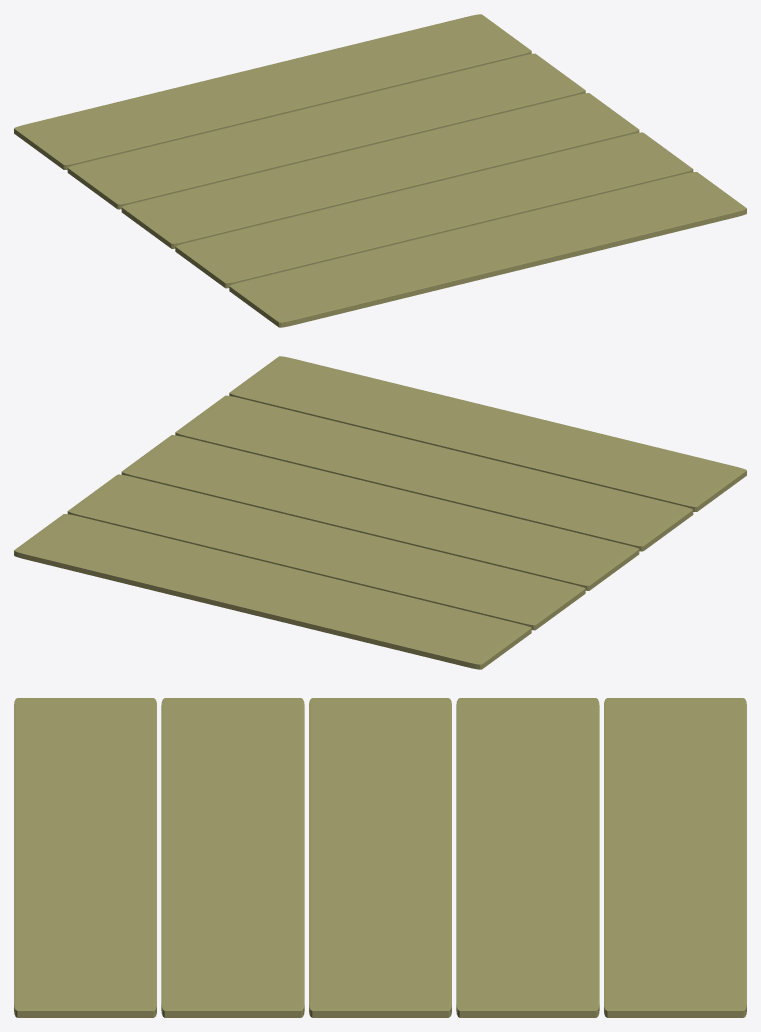
File: parke_1x1.fbx
3 renders of one model, top to bottom at view 1: azimuth 30°, elevation 25°; view 2: azimuth 150°, elevation 25°; view 3: azimuth 270°, elevation 25°, orthographic. The views are drawn at different scales.
Visible parts, largest first — view 1: parke_1x1.001; view 2: parke_1x1.001; view 3: parke_1x1.001.
Part boxes in pixels (x1=…): parke_1x1.001: x1=14, y1=14, x2=746, y2=327; parke_1x1.001: x1=14, y1=356, x2=746, y2=669; parke_1x1.001: x1=14, y1=698, x2=746, y2=1017.
Size of the model in its own units: 98.23 by 1.07 by 97.28.
